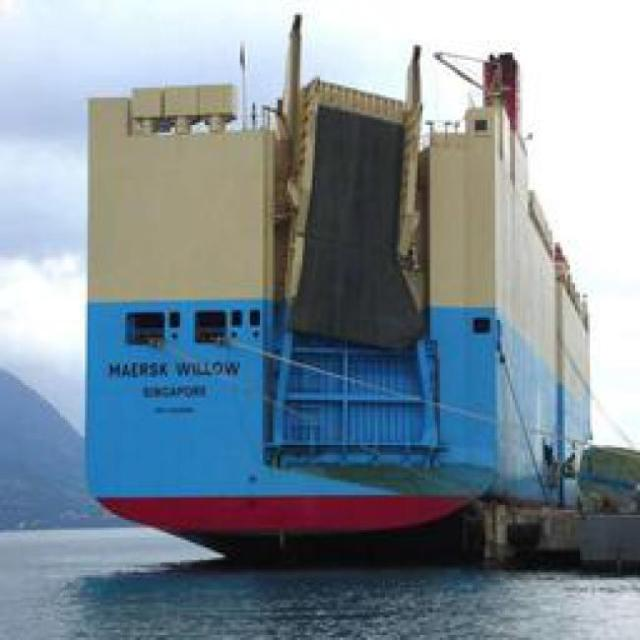boat: (62, 79, 559, 570)
